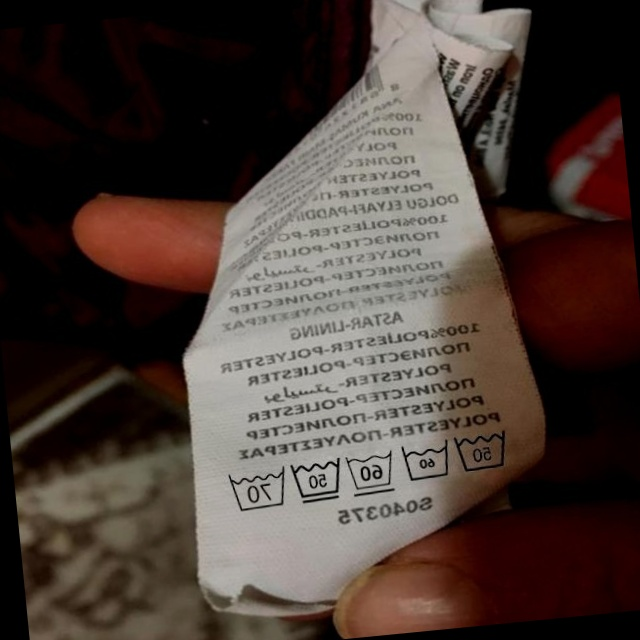50C: (449, 422, 516, 478), (286, 453, 347, 508)
60C: (341, 445, 398, 498), (396, 436, 454, 487)
70C: (221, 464, 289, 515)
